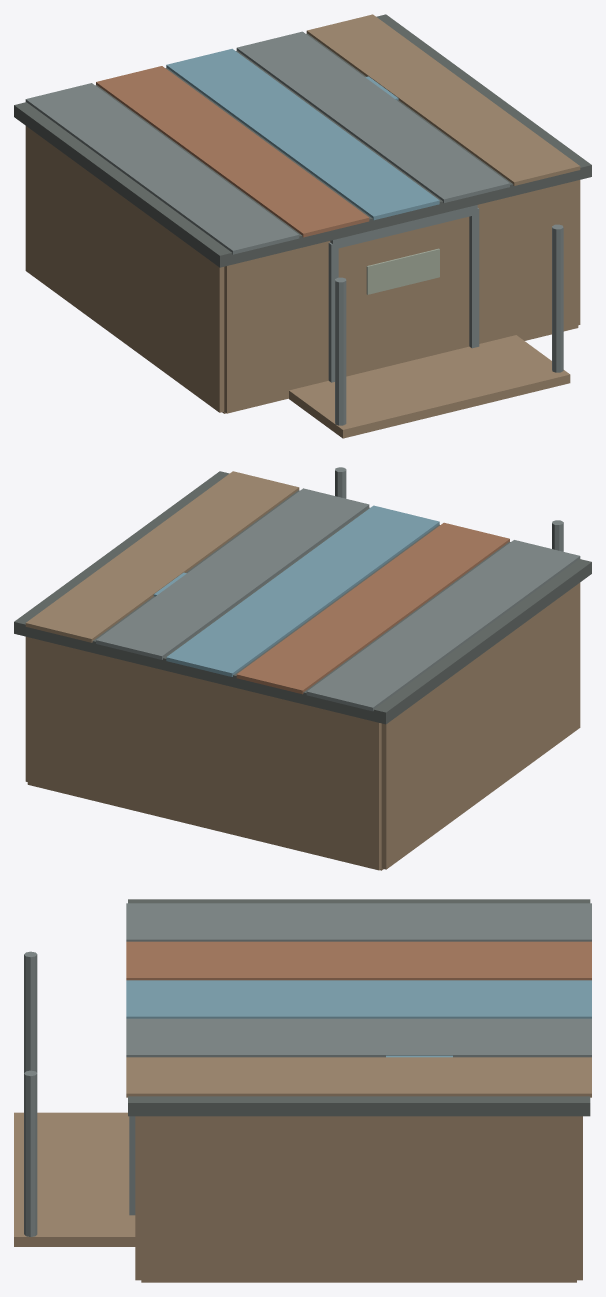
The model's file is settlement_home.glb.
3 views of the same model, one above another, from view 1: azimuth 30°, elevation 25°; view 2: azimuth 150°, elevation 25°; view 3: azimuth 270°, elevation 25° (orthographic). The views are drawn at different scales.
Visible parts, largest first — view 1: WALL_side, WALL_front, reclaimed door, patched roof sheet, patched roof sheet.002, patched roof sheet.003, patched roof sheet.001, patched roof sheet.004, porch, WALL_front.001, roof frame, canvas repair (+5 smaller); view 2: WALL_back, WALL_side, patched roof sheet, patched roof sheet.003, patched roof sheet.001, patched roof sheet.002, patched roof sheet.004, roof frame; view 3: WALL_side.001, patched roof sheet.004, patched roof sheet.001, patched roof sheet.003, patched roof sheet, patched roof sheet.002, porch, roof frame, porch upright.001, porch upright, WALL_front.001, WALL_back (+1 smaller).
Part boxes in pixels (box(x1,y1,x2,y2)): WALL_side: box(25, 126, 224, 412); WALL_front: box(224, 241, 330, 413); reclaimed door: box(338, 216, 469, 376); patched roof sheet: box(25, 83, 299, 254); patched roof sheet.002: box(166, 48, 439, 220); patched roof sheet.003: box(236, 31, 509, 202); patched roof sheet.001: box(96, 66, 369, 237); patched roof sheet.004: box(306, 14, 580, 185); porch: box(289, 335, 570, 438); WALL_front.001: box(477, 180, 578, 343); roof frame: box(14, 14, 591, 267); canvas repair: box(366, 248, 439, 294); WALL_back: box(27, 637, 381, 870); WALL_side: box(381, 582, 580, 869); patched roof sheet: box(306, 540, 580, 711); patched roof sheet.003: box(96, 488, 369, 659); patched roof sheet.001: box(236, 522, 509, 694); patched roof sheet.002: box(166, 505, 439, 676); patched roof sheet.004: box(25, 471, 299, 642); roof frame: box(14, 471, 591, 724); WALL_side.001: box(141, 1116, 576, 1282); patched roof sheet.004: box(126, 1057, 591, 1097); patched roof sheet.001: box(126, 941, 591, 980); patched roof sheet.003: box(126, 1018, 591, 1057); patched roof sheet: box(126, 903, 591, 941); patched roof sheet.002: box(126, 980, 591, 1018); porch: box(14, 1112, 135, 1246); roof frame: box(128, 899, 590, 1116); porch upright.001: box(24, 1070, 37, 1236); porch upright: box(24, 951, 37, 1072); WALL_front.001: box(135, 1116, 141, 1280); WALL_back: box(577, 1116, 582, 1280).
Bounding box in the file's own units: 7.2 × 3.09 × 8.62.
